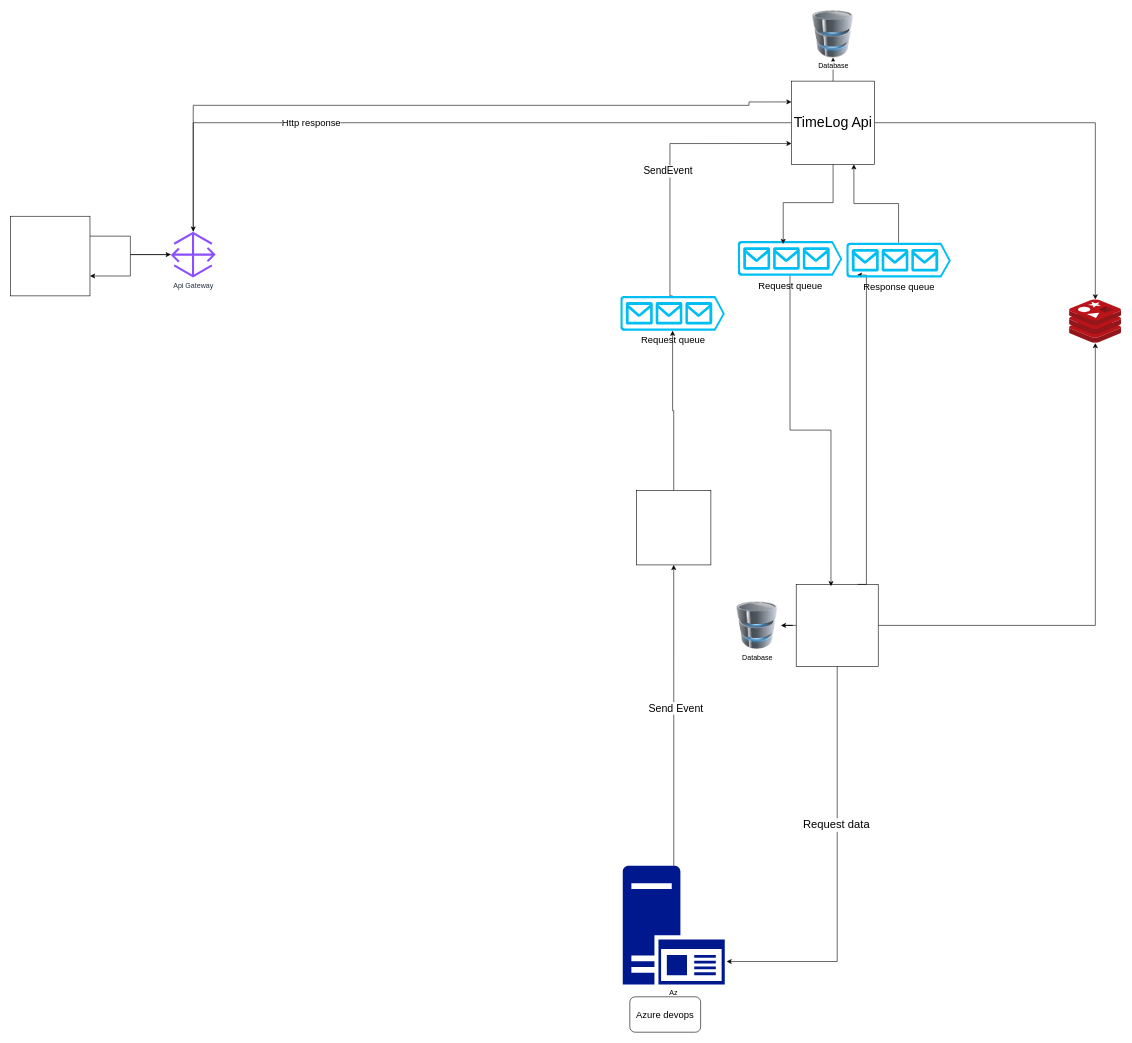
The diagram is 1132 pixels wide and 1043 high, and some of its shapes have lost their labels. The centre of each missing label's shape, as x and y in pixels:
Azure DevOps Api: the point at 837,625
AzureDevops Service Hook: the point at 673,527
Client App Blazor: the point at 50,256
Redis cache: the point at 1095,321
